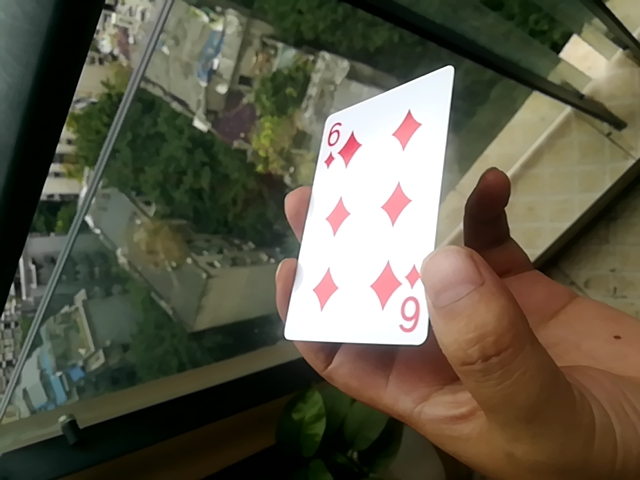fk 6: (280, 63, 452, 343)
